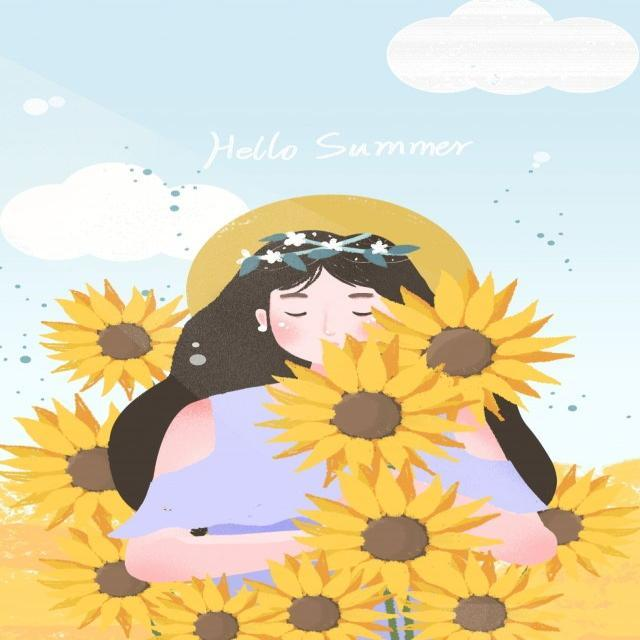sunflower: (253, 334, 476, 487), (362, 268, 575, 422), (290, 459, 502, 603), (0, 392, 136, 536), (38, 278, 191, 400), (35, 526, 189, 636), (516, 463, 640, 582), (401, 549, 564, 639), (240, 550, 394, 640), (148, 573, 274, 639)
